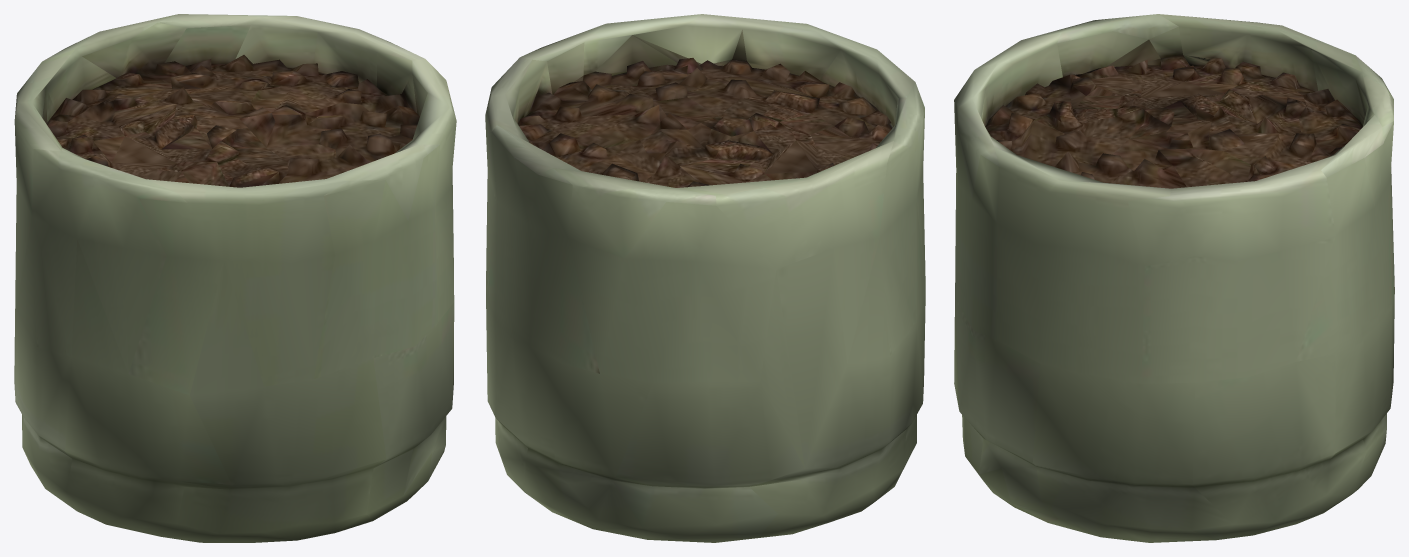
File: cafe-pot-sage.glb
3 renders of one model, left to right at view 1: azimuth 30°, elevation 25°; view 2: azimuth 150°, elevation 25°; view 3: azimuth 270°, elevation 25°, orthographic.
Visible parts, largest first — view 1: tripo_node_79f0f5a9-aeeb-446e-8752-7b1cc6cbcefb; view 2: tripo_node_79f0f5a9-aeeb-446e-8752-7b1cc6cbcefb; view 3: tripo_node_79f0f5a9-aeeb-446e-8752-7b1cc6cbcefb.
Part boxes in pixels (x1=…): tripo_node_79f0f5a9-aeeb-446e-8752-7b1cc6cbcefb: x1=14, y1=14, x2=456, y2=542; tripo_node_79f0f5a9-aeeb-446e-8752-7b1cc6cbcefb: x1=485, y1=14, x2=925, y2=542; tripo_node_79f0f5a9-aeeb-446e-8752-7b1cc6cbcefb: x1=954, y1=14, x2=1394, y2=542.
Size of the model in its own units: 0.38 by 0.34 by 0.3794.
Materials: 1 (1 with a texture image).
